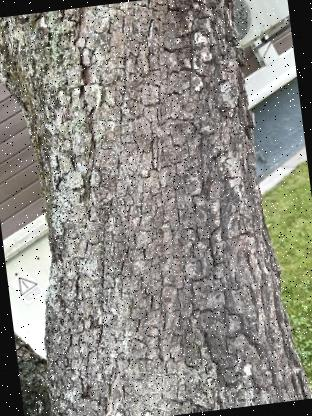tree: (0, 0, 310, 416)
